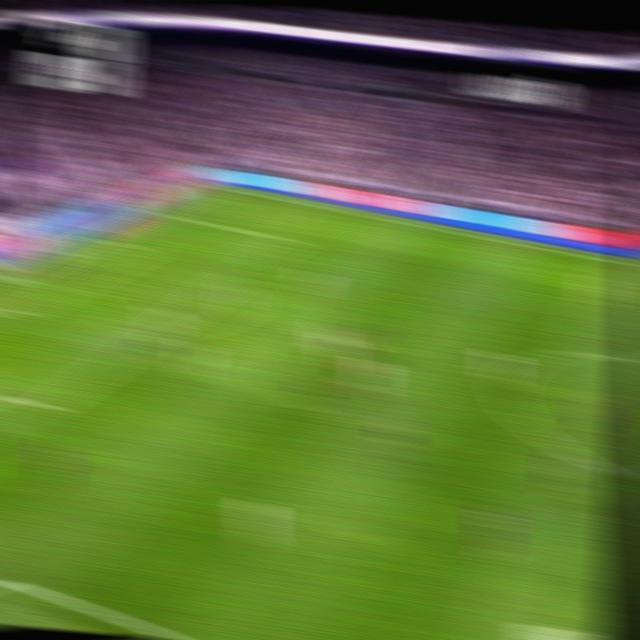bigarea_bottom_inner: (31, 394, 61, 419)
bigarea_top_inner: (277, 233, 301, 247)
bigarea_top_outter: (148, 204, 173, 216)
corner: (203, 180, 229, 191)
smallarea_top_inner: (132, 244, 154, 254)
top_arc_area_intersection: (225, 269, 250, 284)
